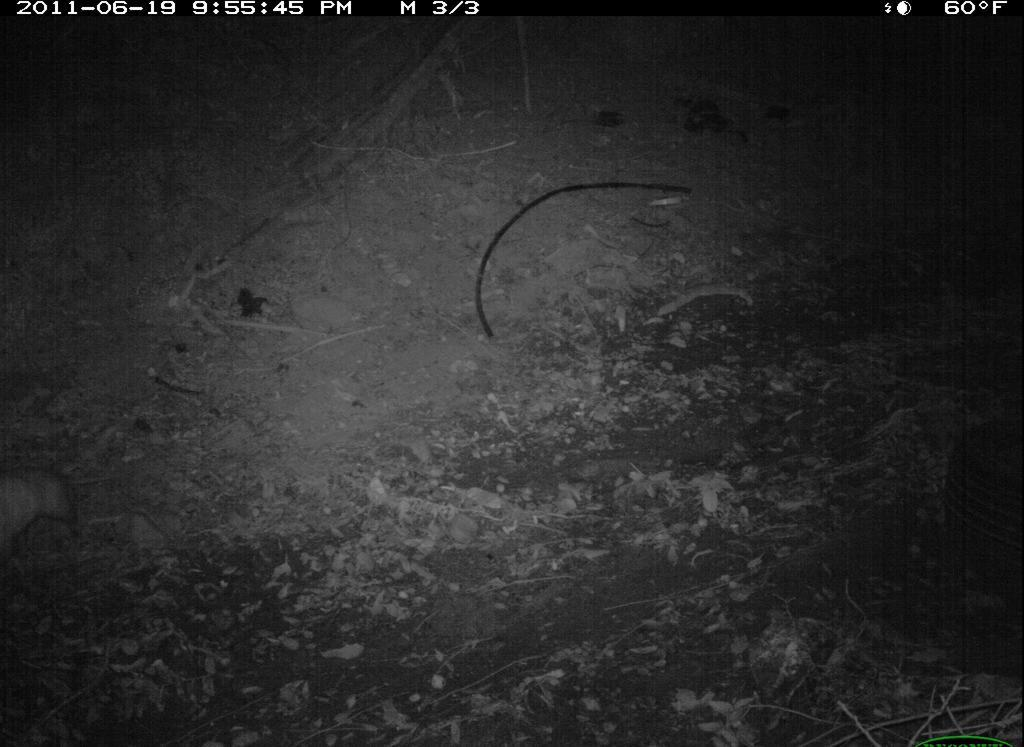opossum: (1, 459, 89, 571)
